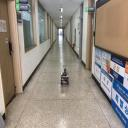cart: (60, 73, 70, 85)
